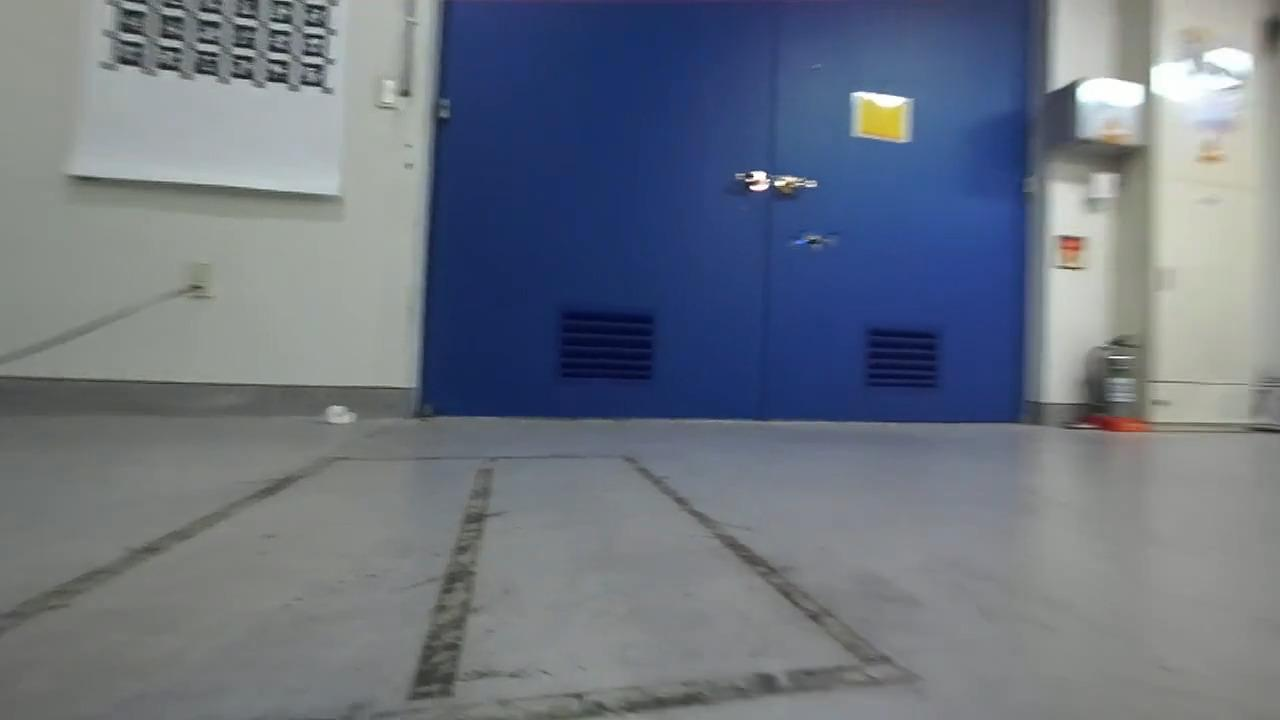crazyflie: (784, 224, 850, 256)
